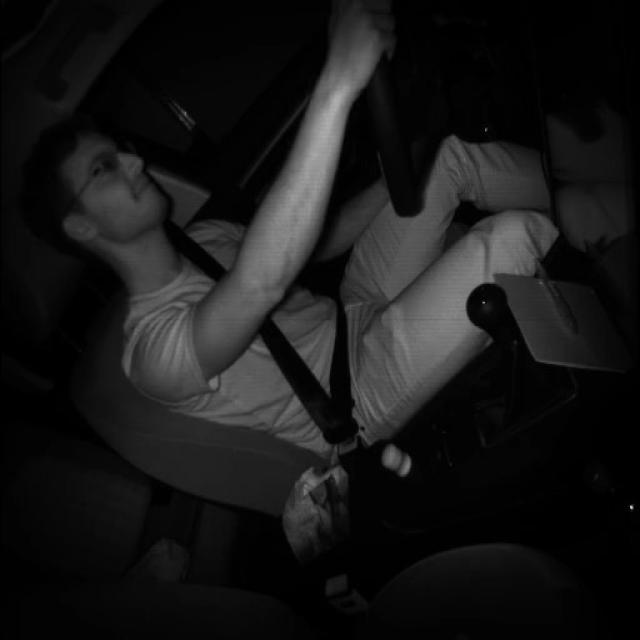pen: (535, 255, 582, 336)
